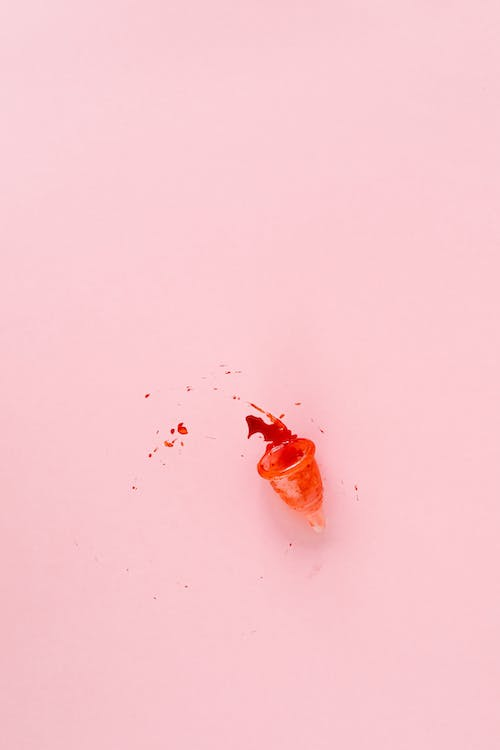blood: (128, 360, 361, 549), (256, 435, 328, 534)
